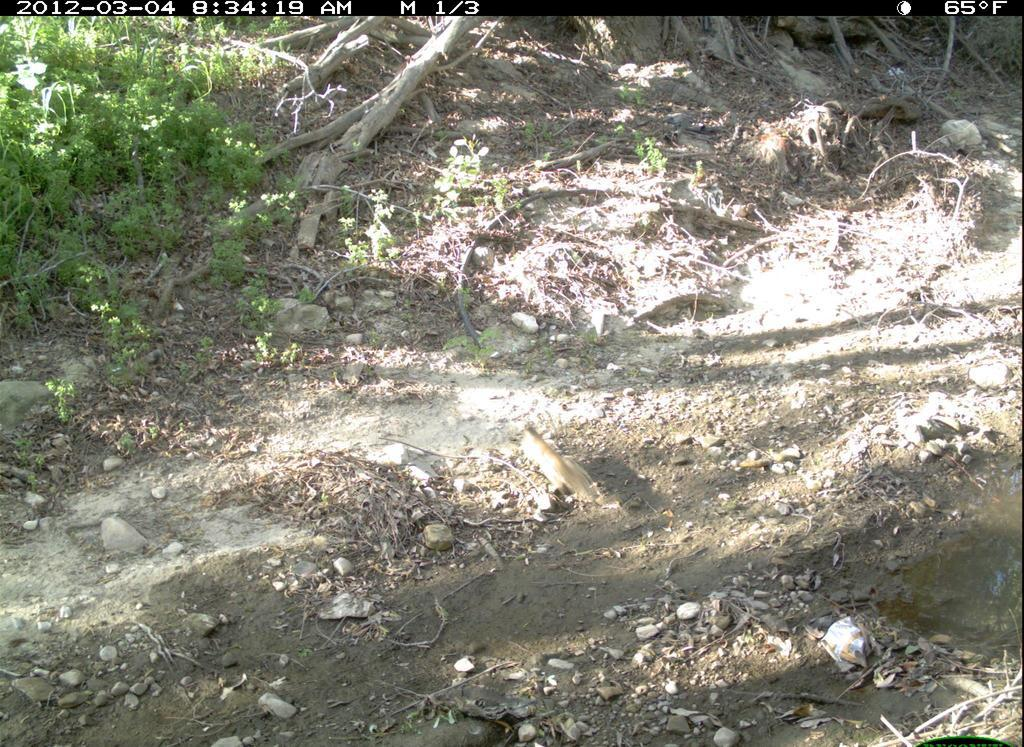squirrel: (510, 414, 612, 516)
